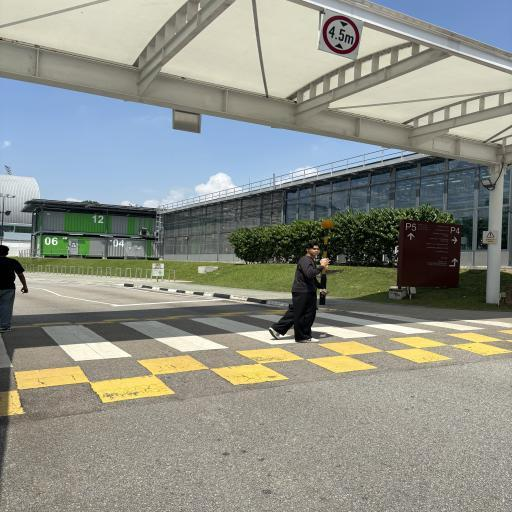person_right: (284, 242, 328, 343)
